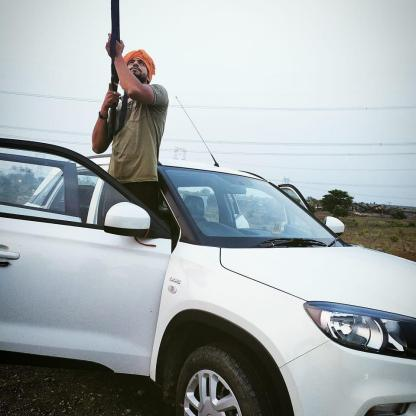rifle: (105, 0, 123, 143)
